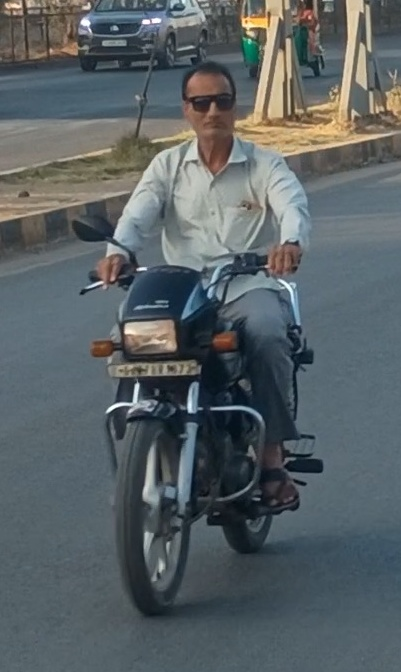BikeWithRider: (57, 47, 353, 620)
NoHelmet: (171, 58, 242, 143)
